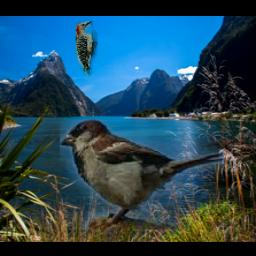Sparrow: (61, 120, 225, 230)
Woodpecker: (77, 22, 99, 78)
